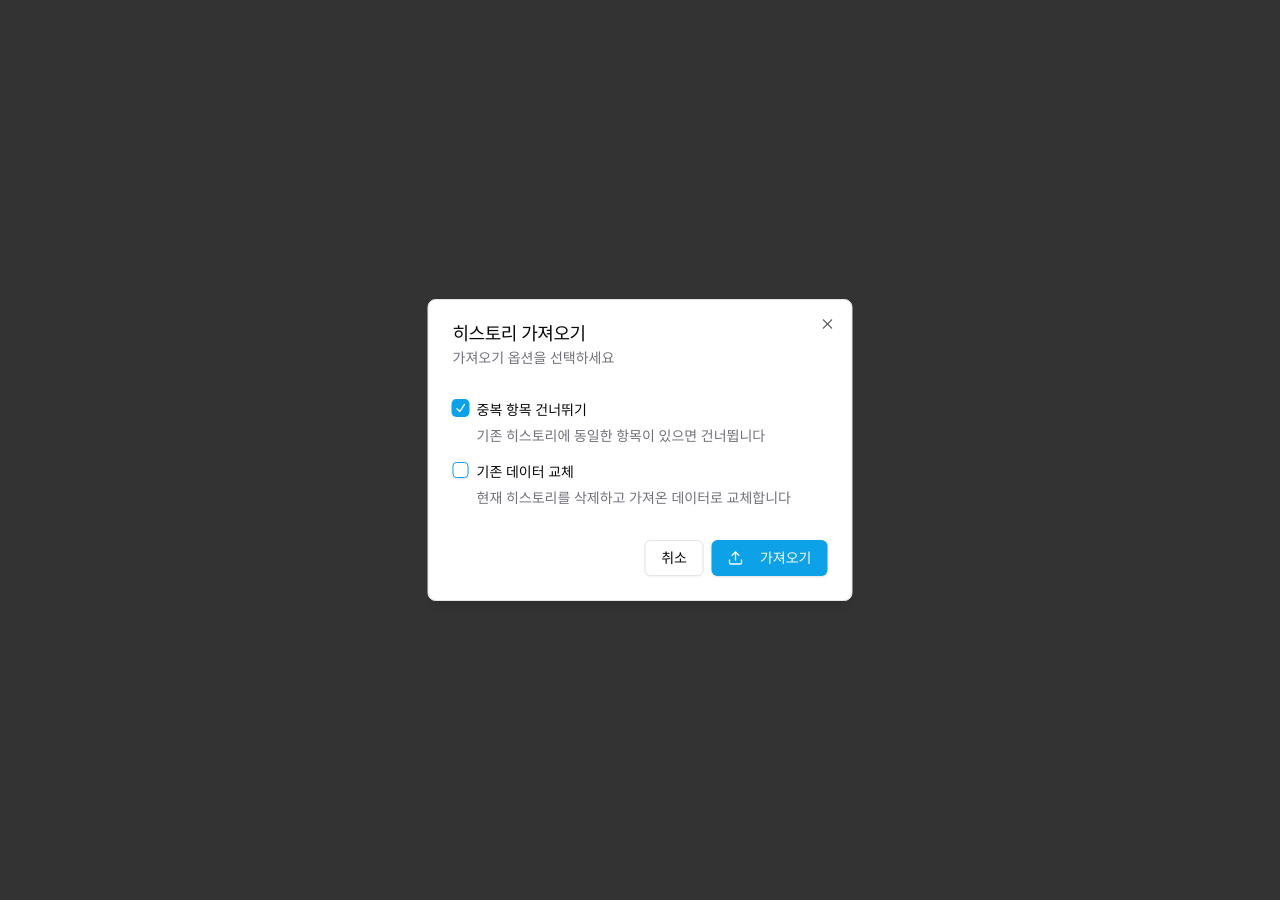
Test: ImportDialog › checkbox interactions › shows info alert when both checkboxes are unchecked
The image size is (1280, 900).
// Uncheck skip duplicates (first checkbox, checked by default)
Click the checkbox next to "중복 항목 건너뛰기": (460, 408) [452,400,468,416]
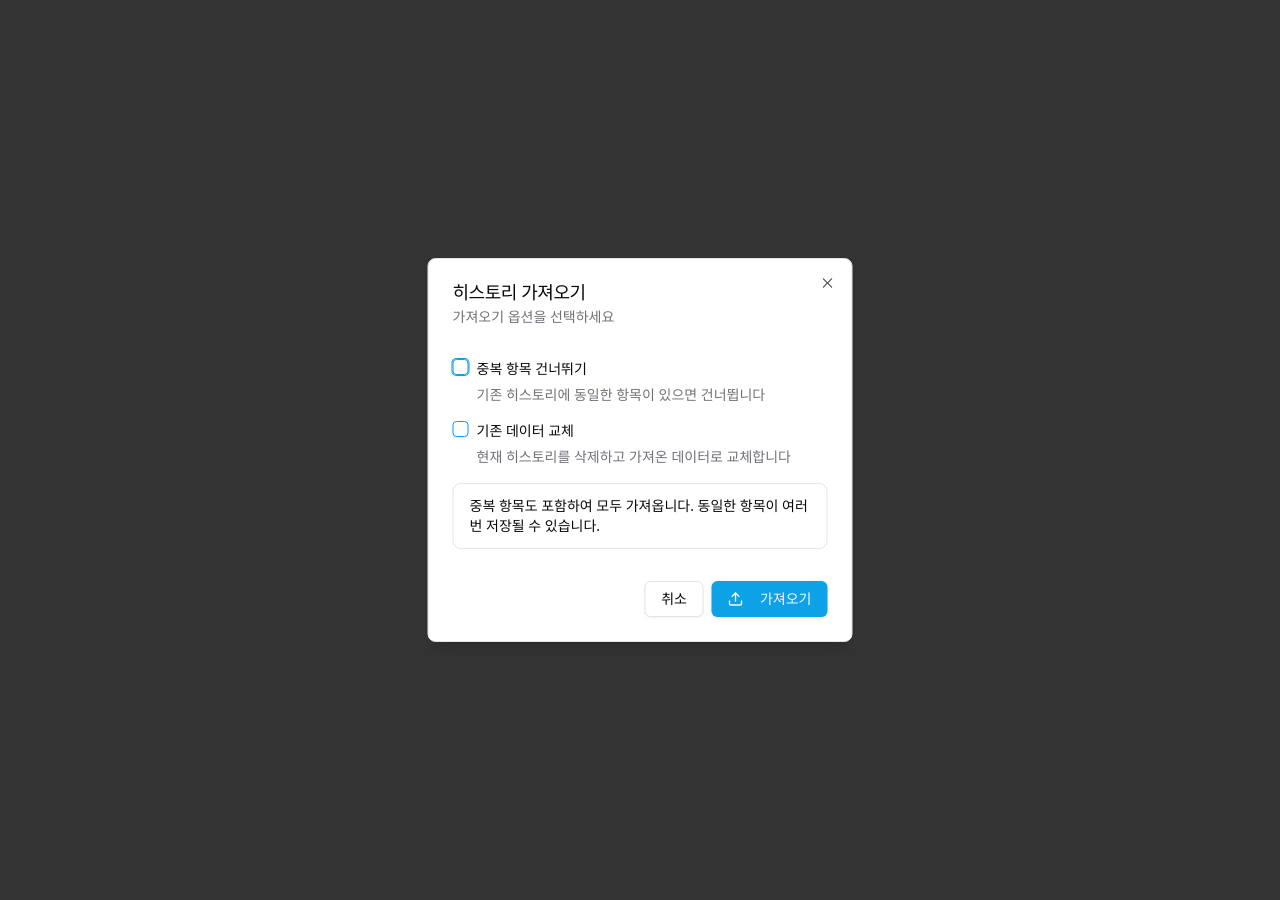
Result: the text "중복 항목도 포함하여 모두 가져옵니다. 동일한 항목이 여러 번 저장될 수 있습니다." is shown at [470,496,810,536]
